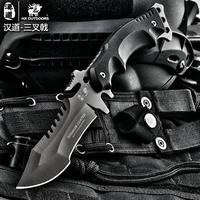knife: (13, 15, 163, 194)
